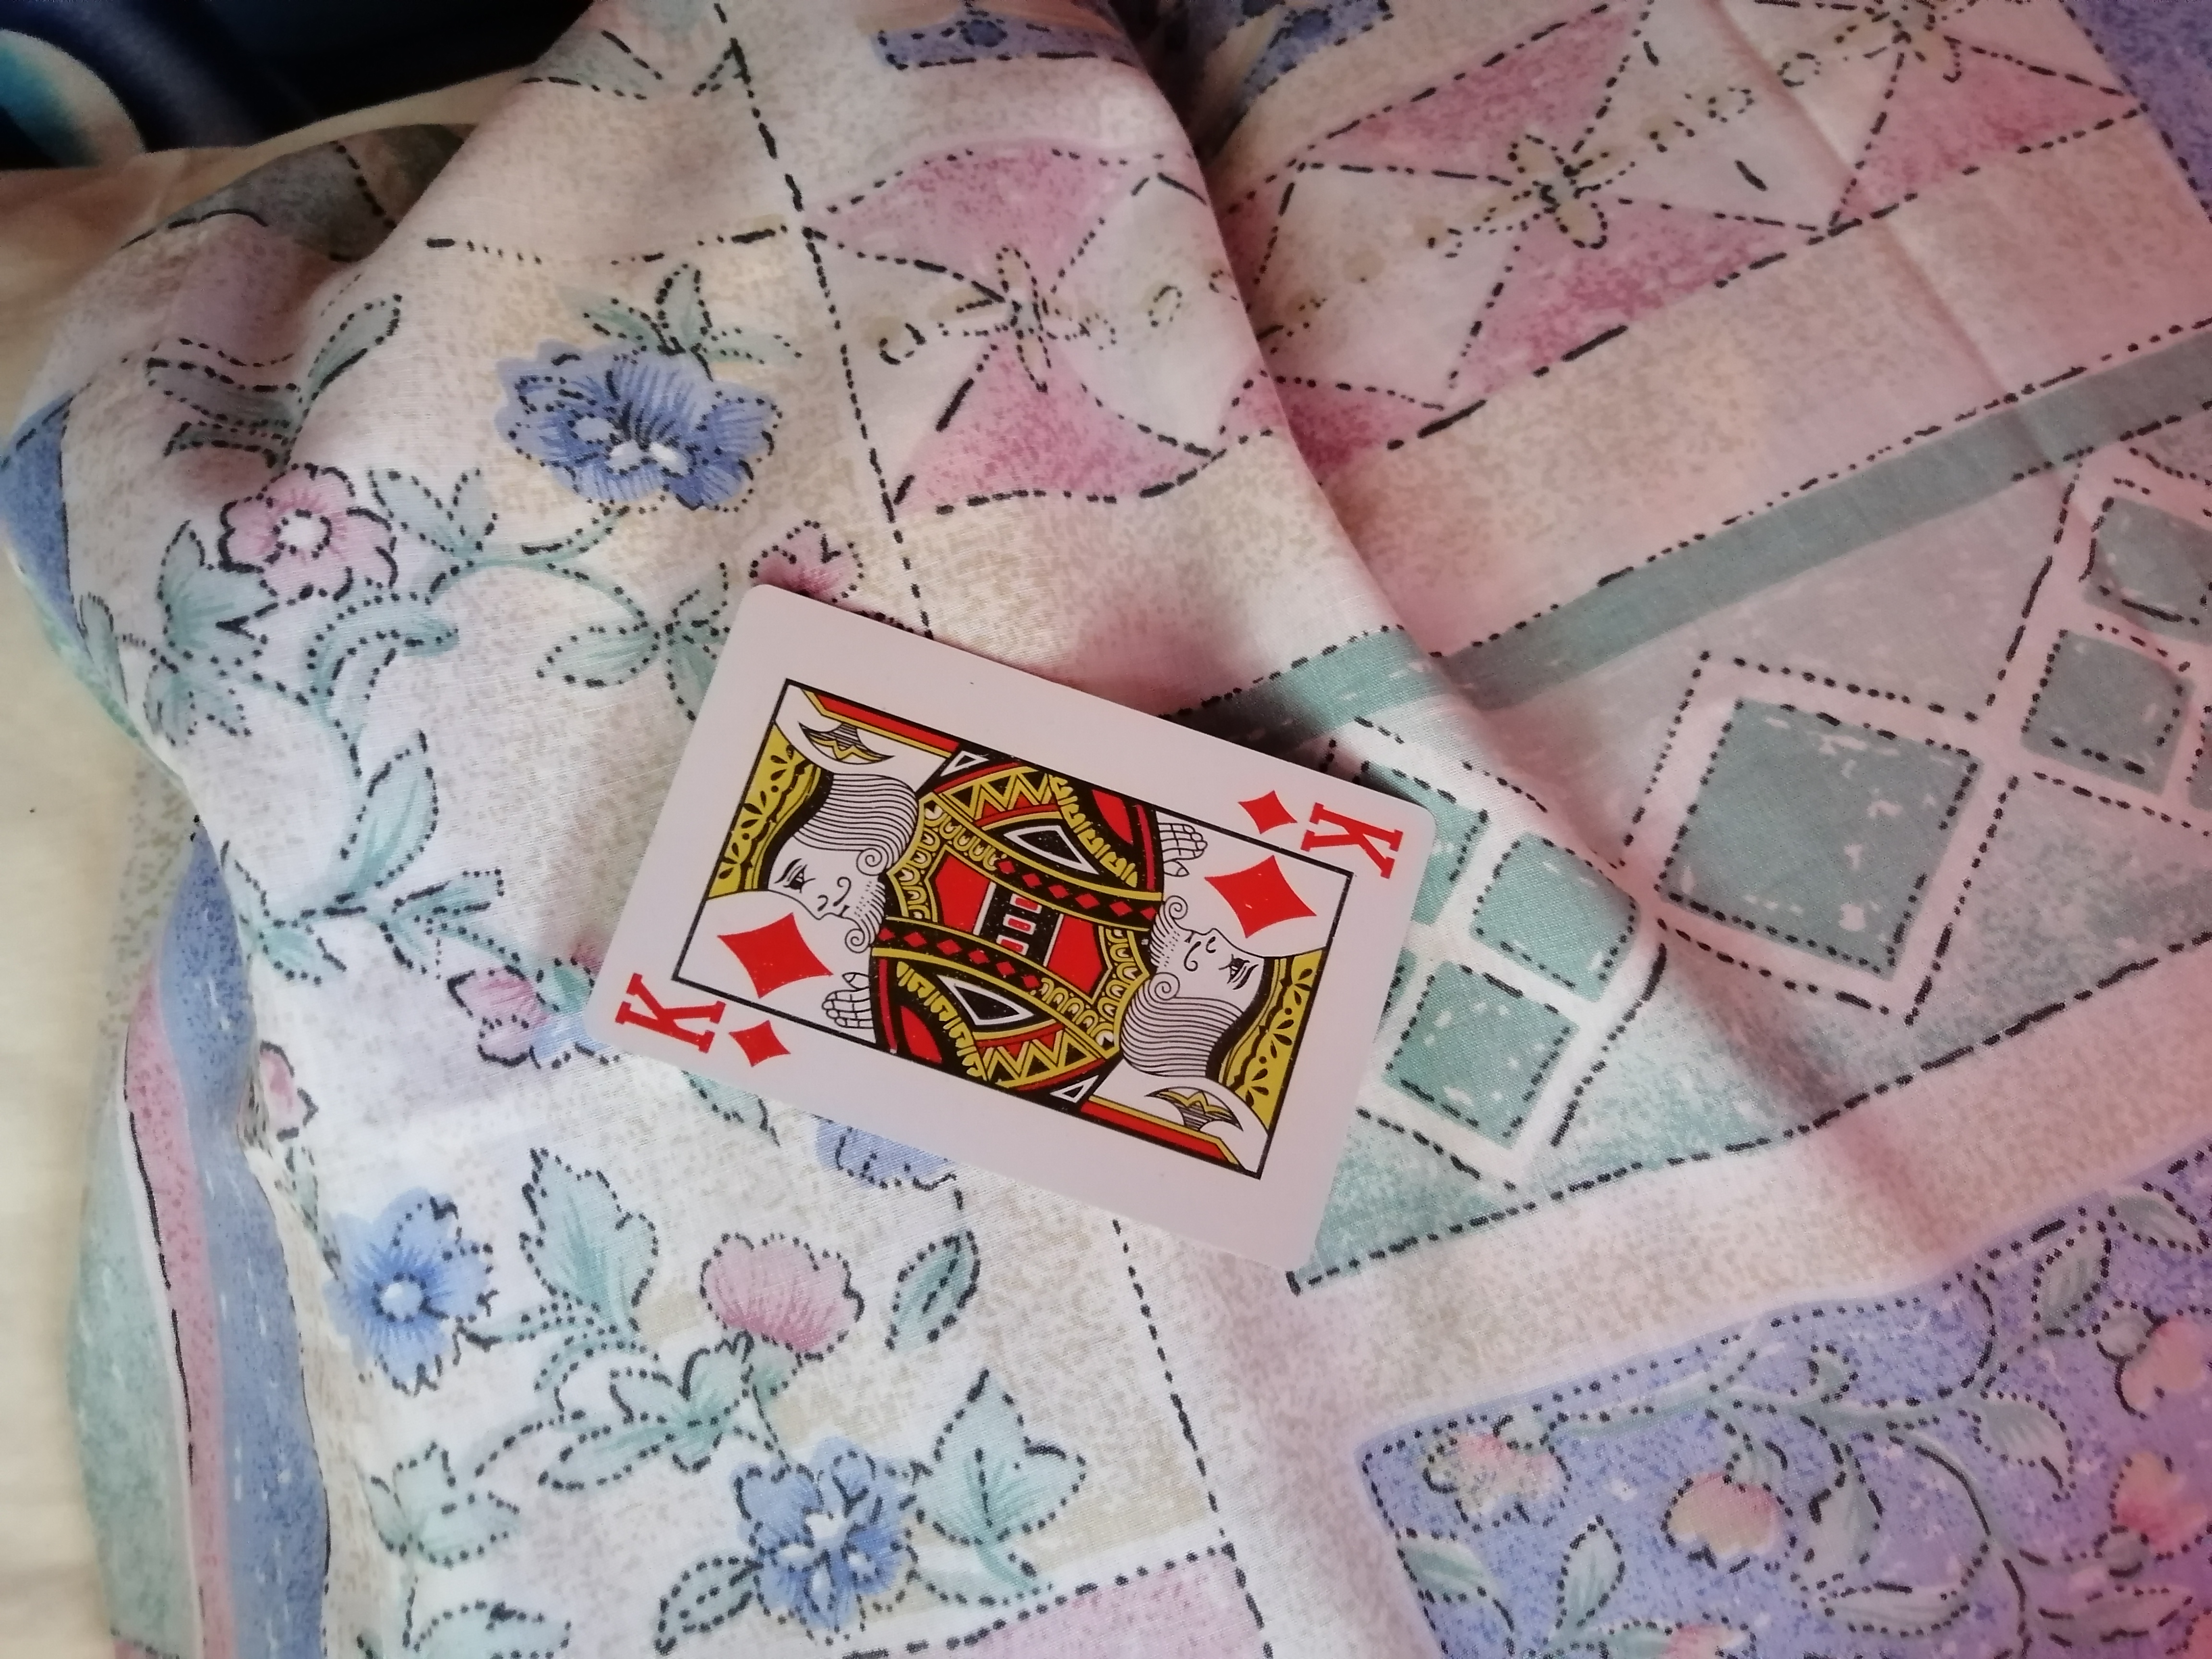king: (597, 596, 1449, 1251)
